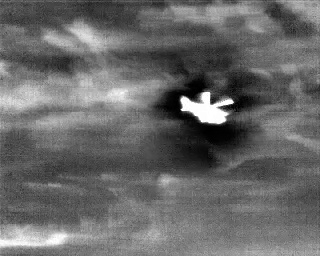HELICOPTER: (177, 86, 237, 130)
